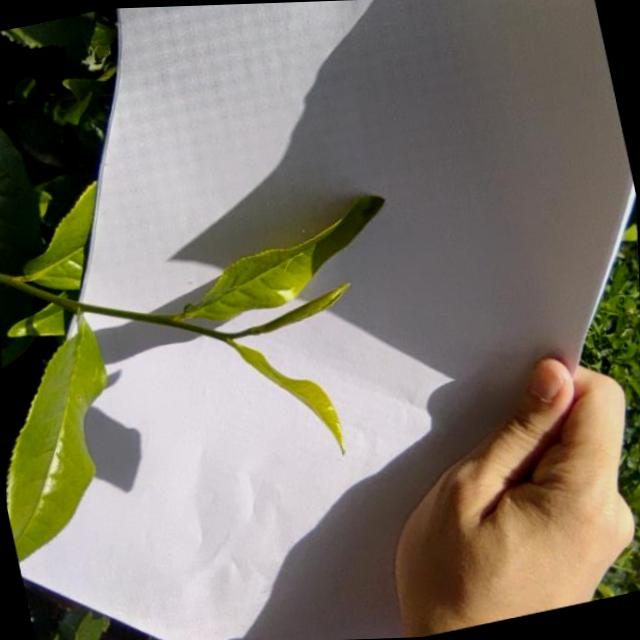Stem: (155, 314, 169, 323)
